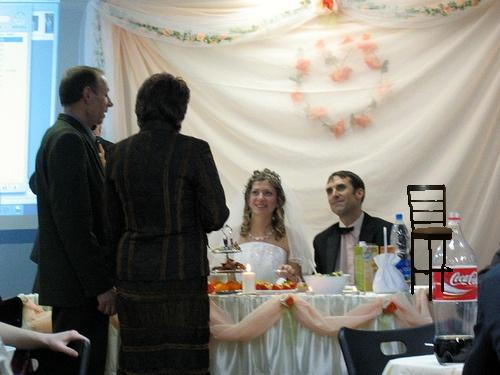tampered: (408, 185, 453, 301)
